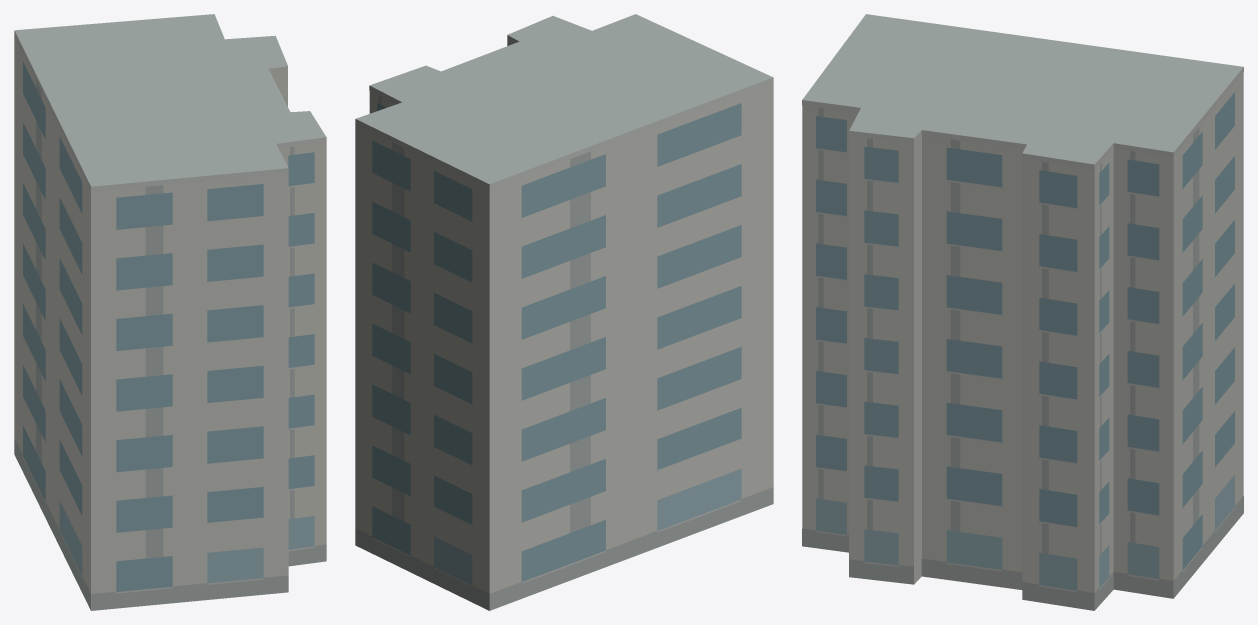
Rendered from survey-upis-32519068.glb.
3 views of the same model, side by side, from view 1: azimuth 30°, elevation 25°; view 2: azimuth 150°, elevation 25°; view 3: azimuth 270°, elevation 25° (orthographic). The views are drawn at different scales.
Parts seen in each view (by area): view 1: survey-upis-32519068.tmp; view 2: survey-upis-32519068.tmp; view 3: survey-upis-32519068.tmp.
Part boxes in pixels (x1=…): survey-upis-32519068.tmp: x1=14, y1=14, x2=326, y2=610; survey-upis-32519068.tmp: x1=355, y1=14, x2=773, y2=610; survey-upis-32519068.tmp: x1=802, y1=14, x2=1243, y2=610.
Bounding box in the file's own units: 14.48 × 20 × 17.95.
